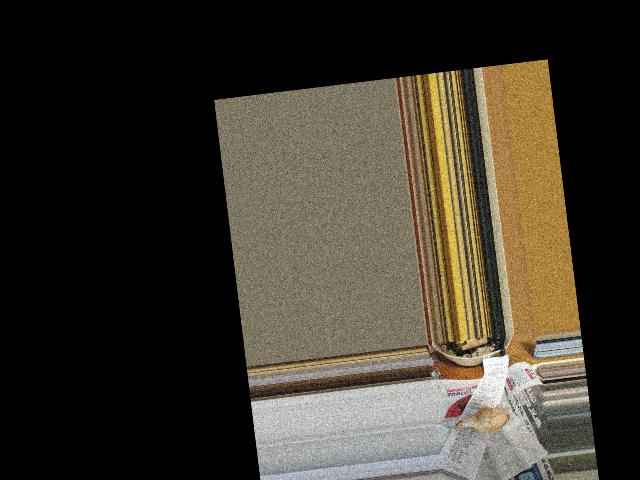onion: (469, 406, 510, 435)
